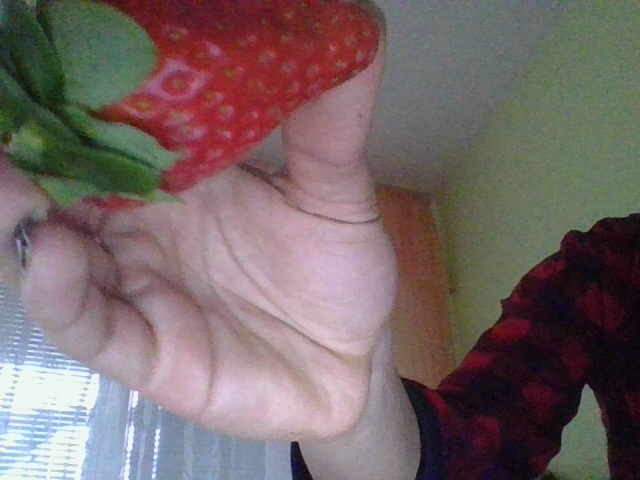ripe: (21, 3, 380, 207)
